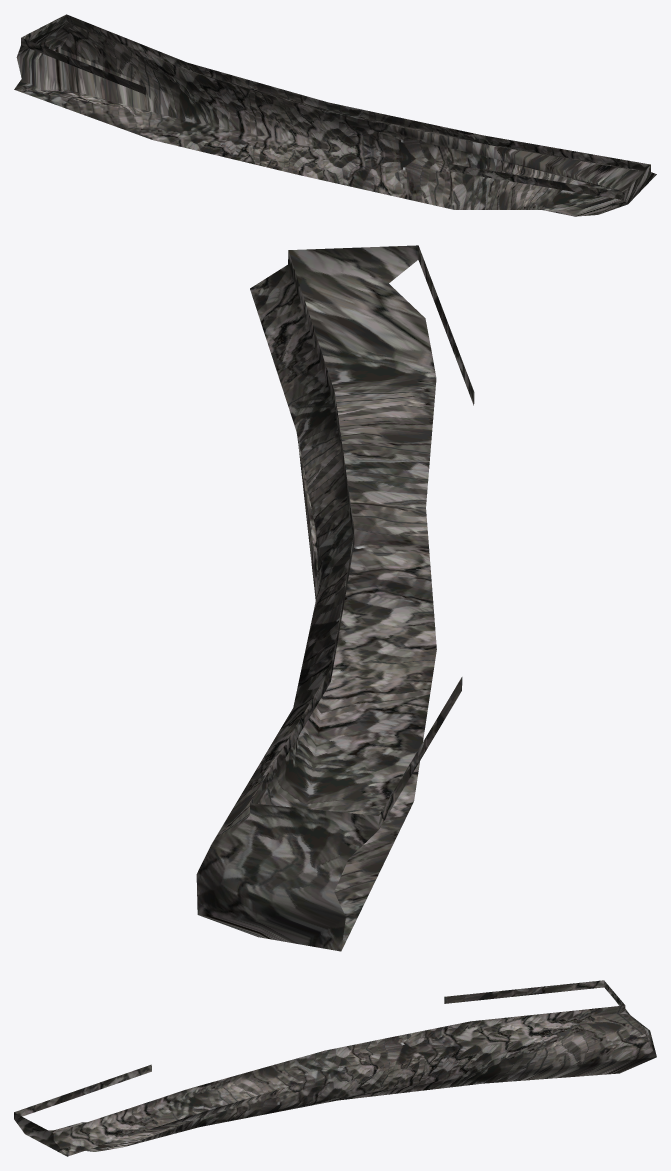
File: CH09_SMAUG_PLAYSURFACE_LAIR17.fbx
3 renders of one model, top to bottom at view 1: azimuth 30°, elevation 25°; view 2: azimuth 150°, elevation 25°; view 3: azimuth 270°, elevation 25°, orthographic. The views are drawn at different scales.
Visible parts, largest first — view 1: CH09_SMAUG_PLAYSURFACE_LAIR17; view 2: CH09_SMAUG_PLAYSURFACE_LAIR17; view 3: CH09_SMAUG_PLAYSURFACE_LAIR17.
Boxes of the visible parts, x1,y1,x2,y2 form: CH09_SMAUG_PLAYSURFACE_LAIR17: (14,14,656,216); CH09_SMAUG_PLAYSURFACE_LAIR17: (196,245,474,951); CH09_SMAUG_PLAYSURFACE_LAIR17: (14,980,656,1156).
Bounding box in the file's own units: 99354 × 20351 × 166192.
1 material, 1 textured.
